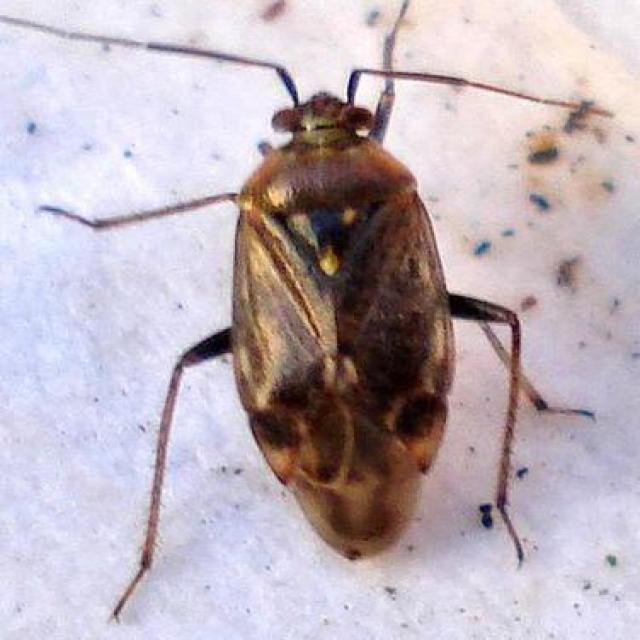Miridae-Adult-: (13, 16, 590, 577)
